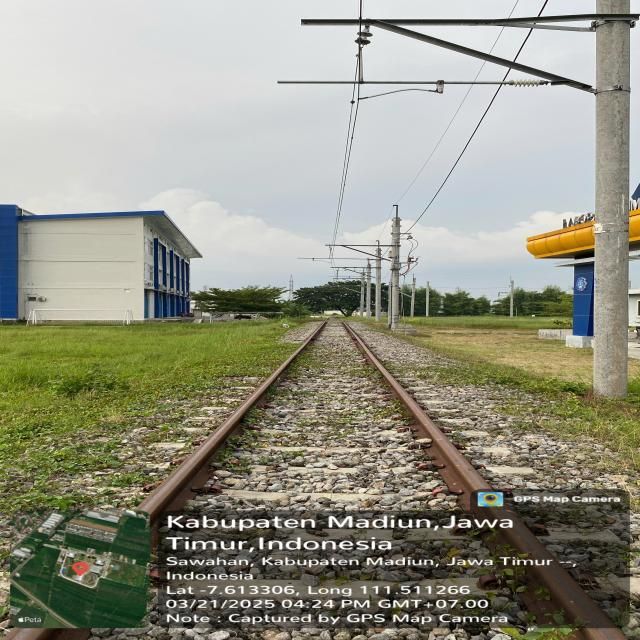rail-detection: (139, 323, 326, 550), (343, 323, 516, 521), (529, 561, 621, 640), (501, 521, 547, 559)
